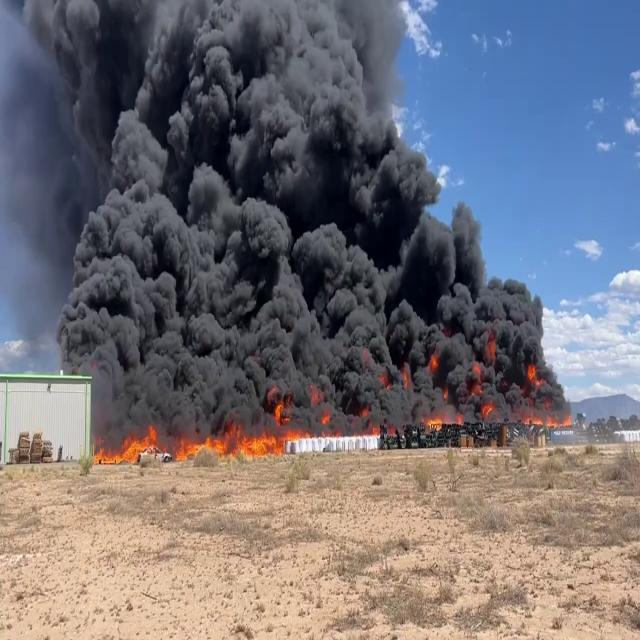Fire: (172, 418, 304, 469), (94, 424, 157, 464)
Smoke: (6, 0, 555, 399)
